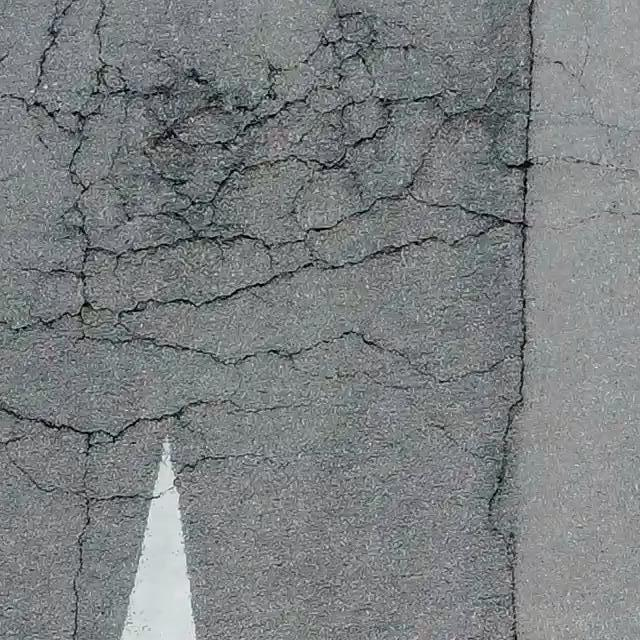GRIETA: (488, 0, 533, 639), (72, 503, 89, 639)
PIEL DE COCODRILO: (0, 1, 522, 508), (529, 39, 639, 238)
